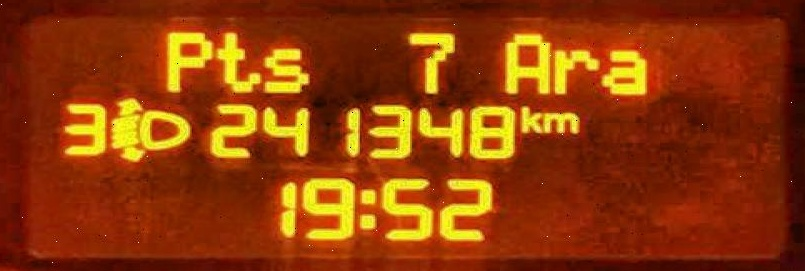1: (266, 175, 300, 240), (331, 105, 360, 159)
2: (434, 171, 493, 245), (199, 99, 258, 159)
3: (364, 100, 413, 161), (58, 100, 108, 157)
4: (260, 102, 315, 155), (413, 104, 466, 158)
5: (378, 173, 431, 243)
7: (400, 27, 461, 98)
8: (466, 102, 516, 162)
9: (300, 174, 355, 243)
X: (498, 28, 553, 97), (158, 28, 211, 94), (213, 28, 258, 94), (598, 47, 653, 97), (263, 44, 313, 95), (551, 46, 596, 94), (541, 108, 581, 134), (356, 185, 376, 231), (520, 101, 540, 134)
